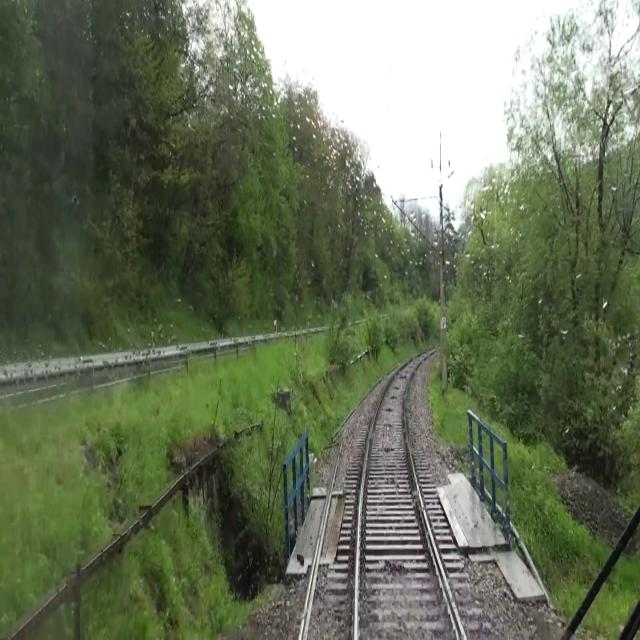rail-track: (359, 356, 453, 639)
